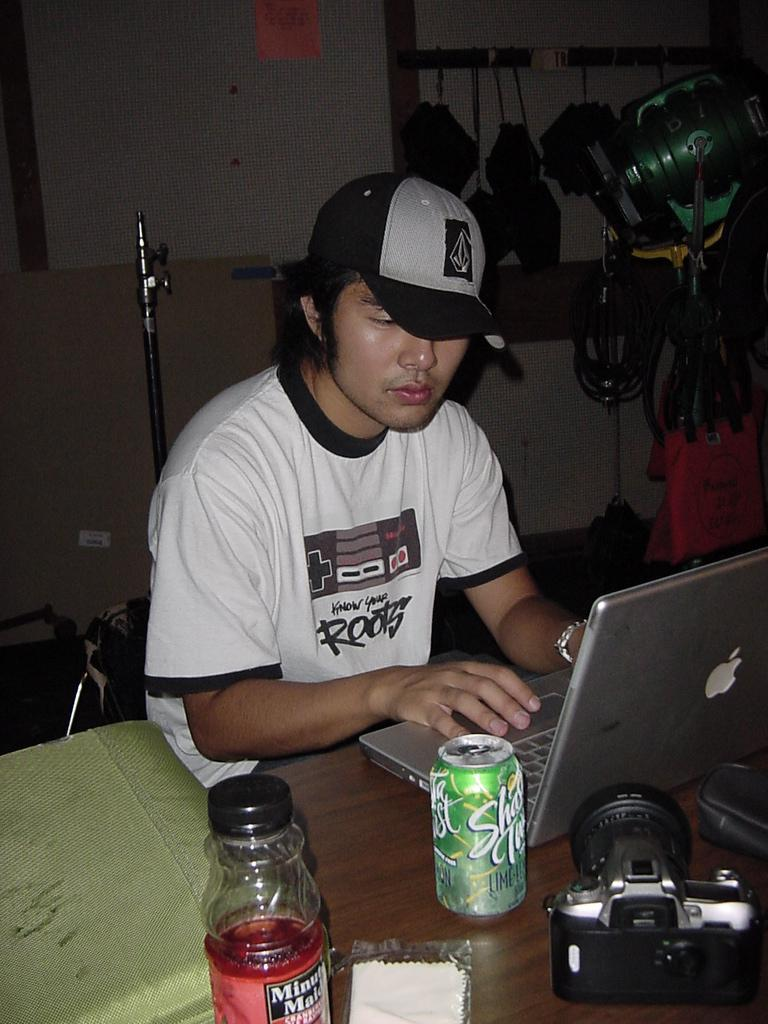Hat: (304, 169, 500, 341)
